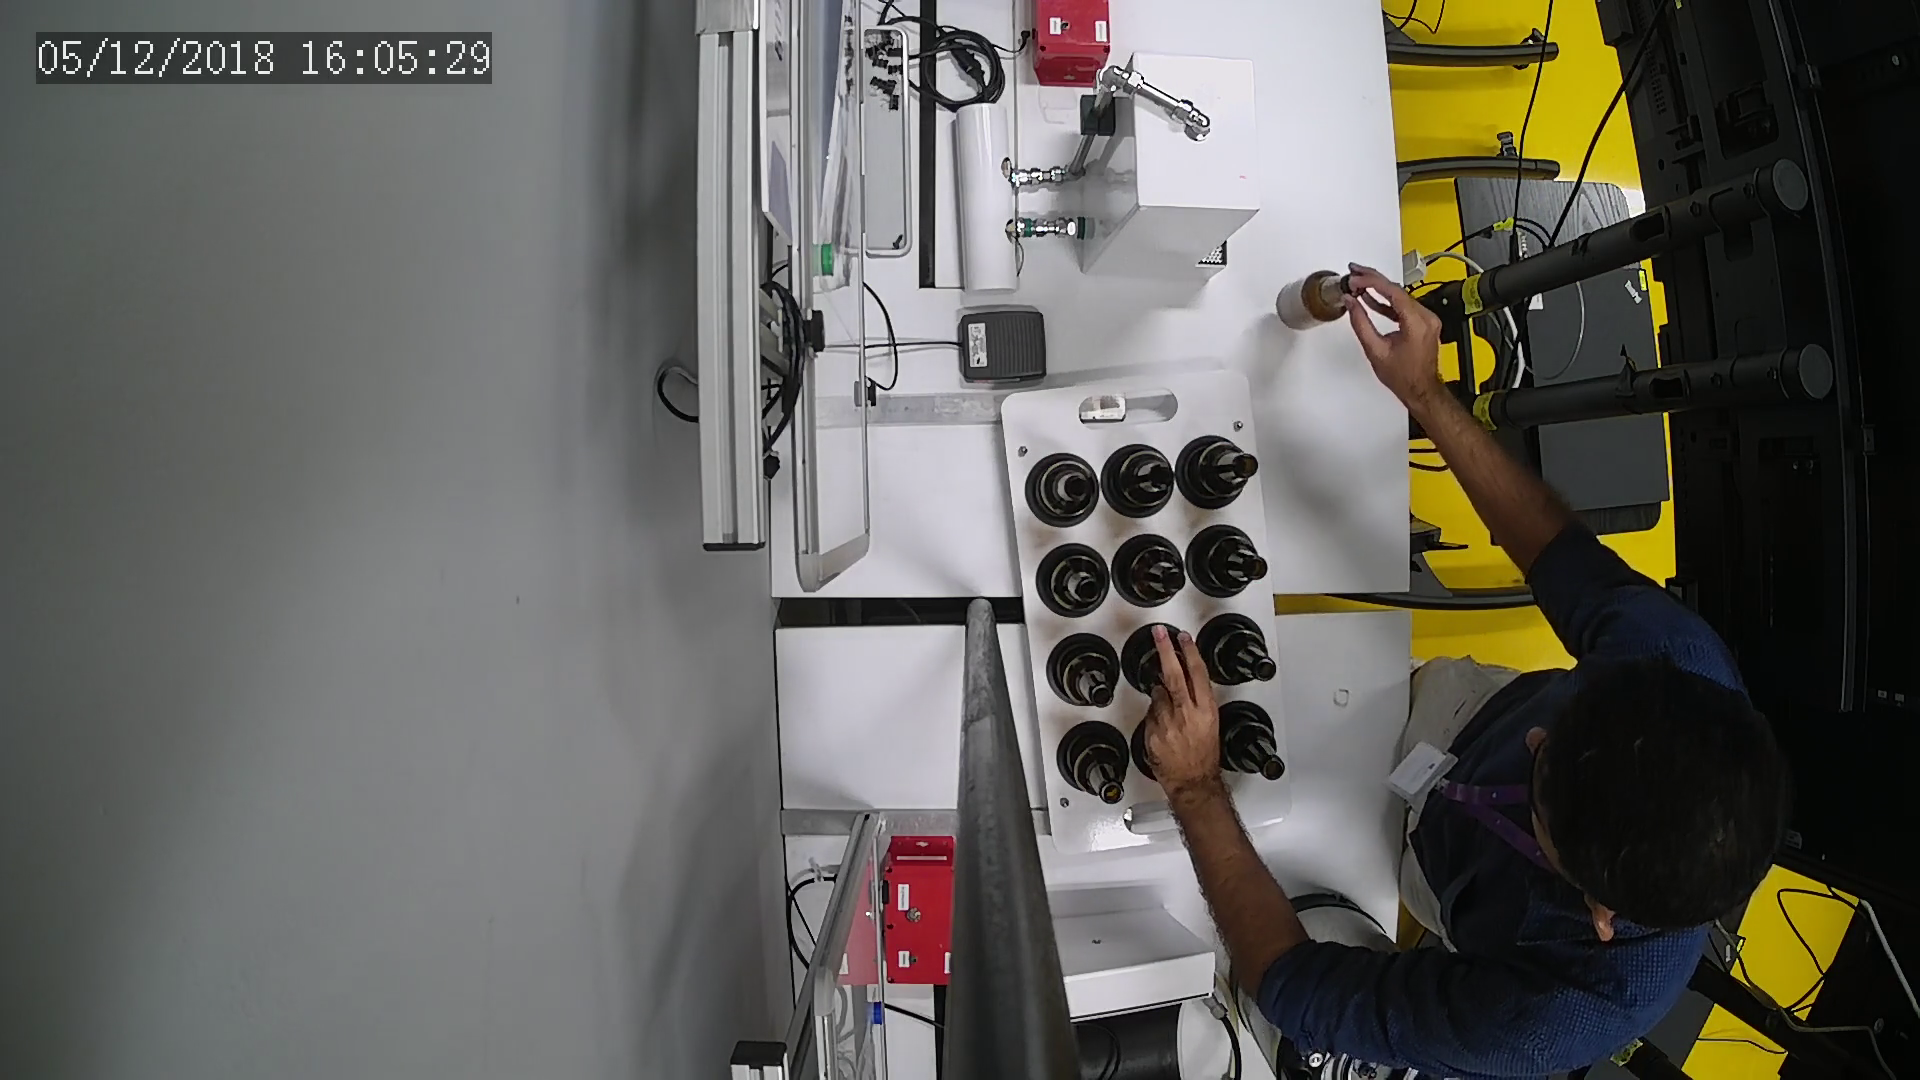filled_bottle: (1187, 516, 1274, 607), (1195, 609, 1291, 691), (1056, 711, 1131, 811), (1110, 527, 1195, 615), (1178, 429, 1266, 512), (1029, 541, 1118, 622), (1021, 448, 1102, 531), (1220, 694, 1294, 785), (1101, 440, 1176, 522), (1047, 628, 1122, 709)
trolley: (1004, 361, 1305, 853)
